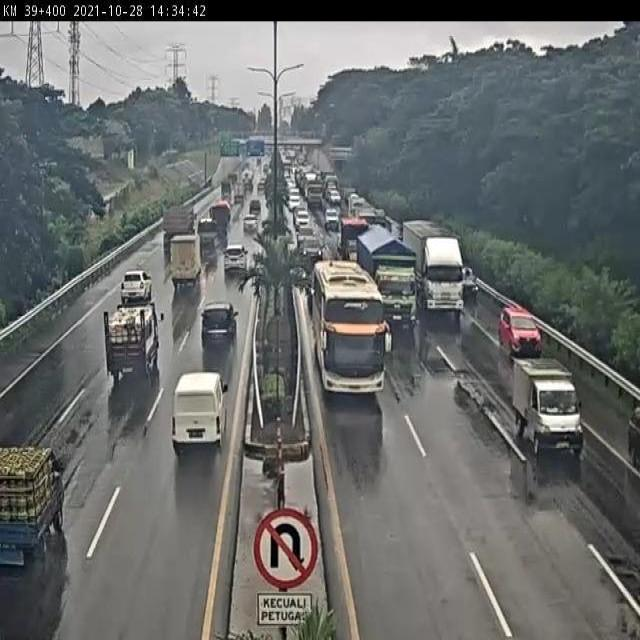big bus: (315, 272, 391, 396)
big truck: (368, 232, 416, 331), (419, 228, 465, 323)
car: (2, 439, 73, 576), (99, 297, 177, 403), (507, 361, 587, 463), (165, 356, 232, 476), (183, 300, 247, 387), (105, 258, 150, 330), (495, 304, 548, 363), (213, 230, 251, 294), (618, 388, 640, 472), (458, 270, 490, 314)
small truck: (160, 224, 205, 292)
